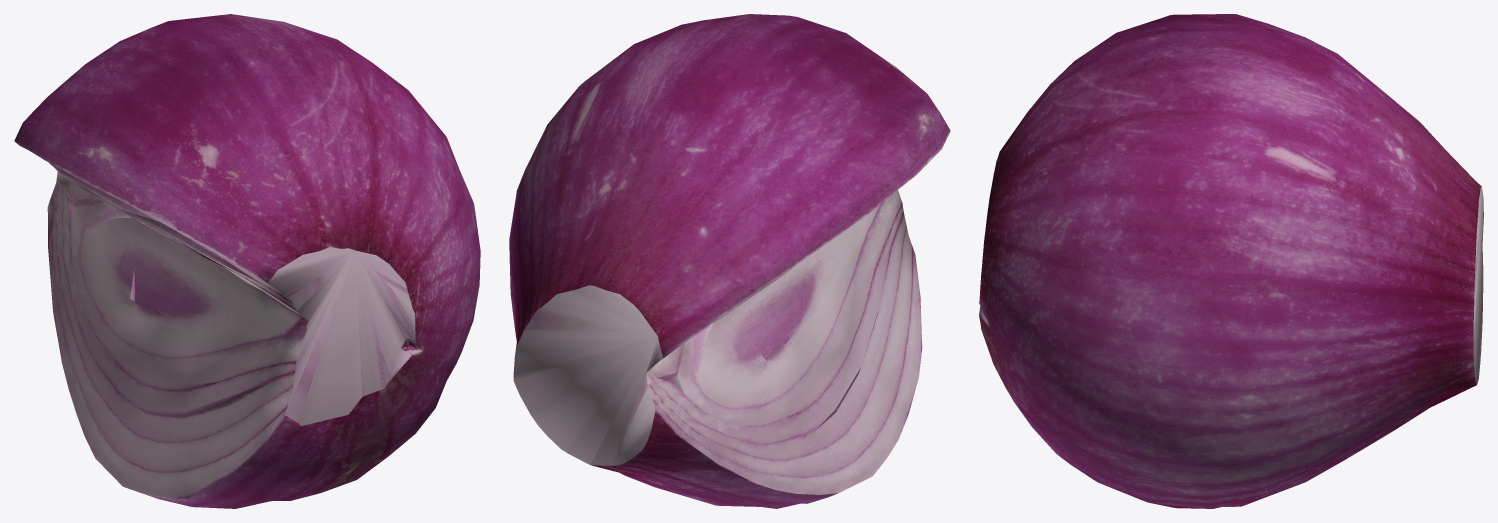
The model's file is OnionCut01.fbx.
3 views of the same model, side by side, from view 1: azimuth 30°, elevation 25°; view 2: azimuth 150°, elevation 25°; view 3: azimuth 270°, elevation 25° (orthographic).
Visible parts, largest first — view 1: Result; view 2: Result; view 3: Result.
Boxes of the visible parts, box(x1,y1,x2,y2) form: Result: box(14, 14, 480, 508); Result: box(509, 14, 950, 508); Result: box(979, 14, 1483, 508).
Bounding box in the file's own units: 239 × 265 × 271.
1 material, 1 textured.
